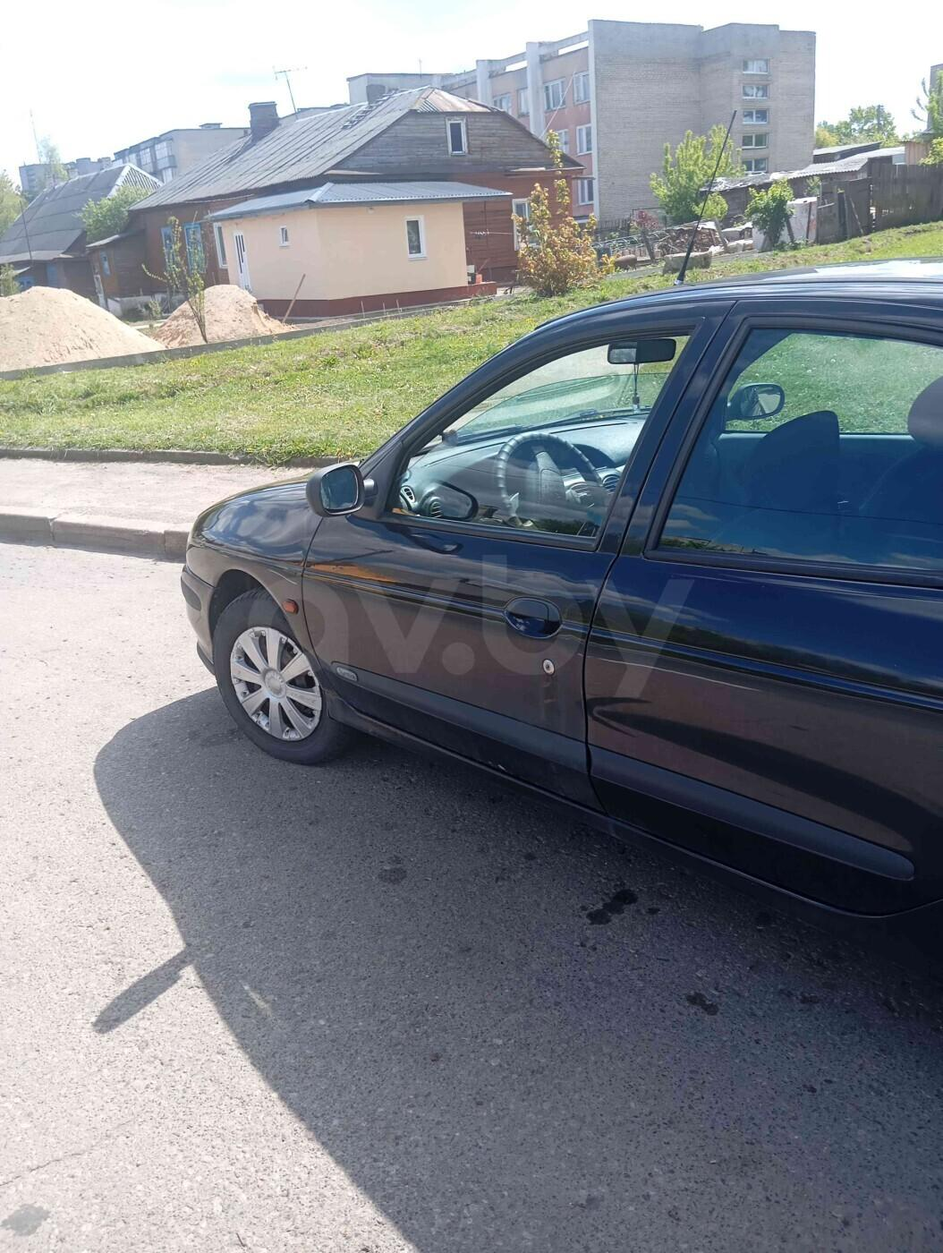Megane_1995-1999: (170, 277, 943, 968)
